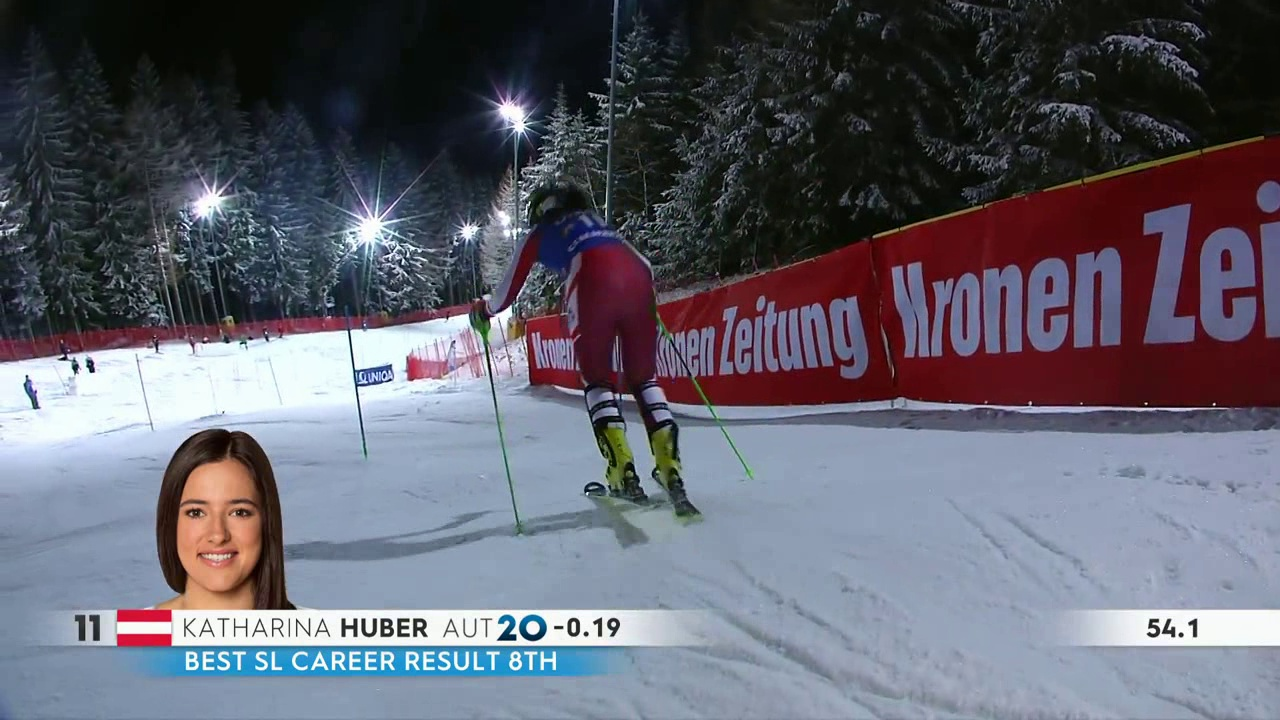kronenzeitung: (923, 162, 1240, 375), (660, 290, 857, 395)
